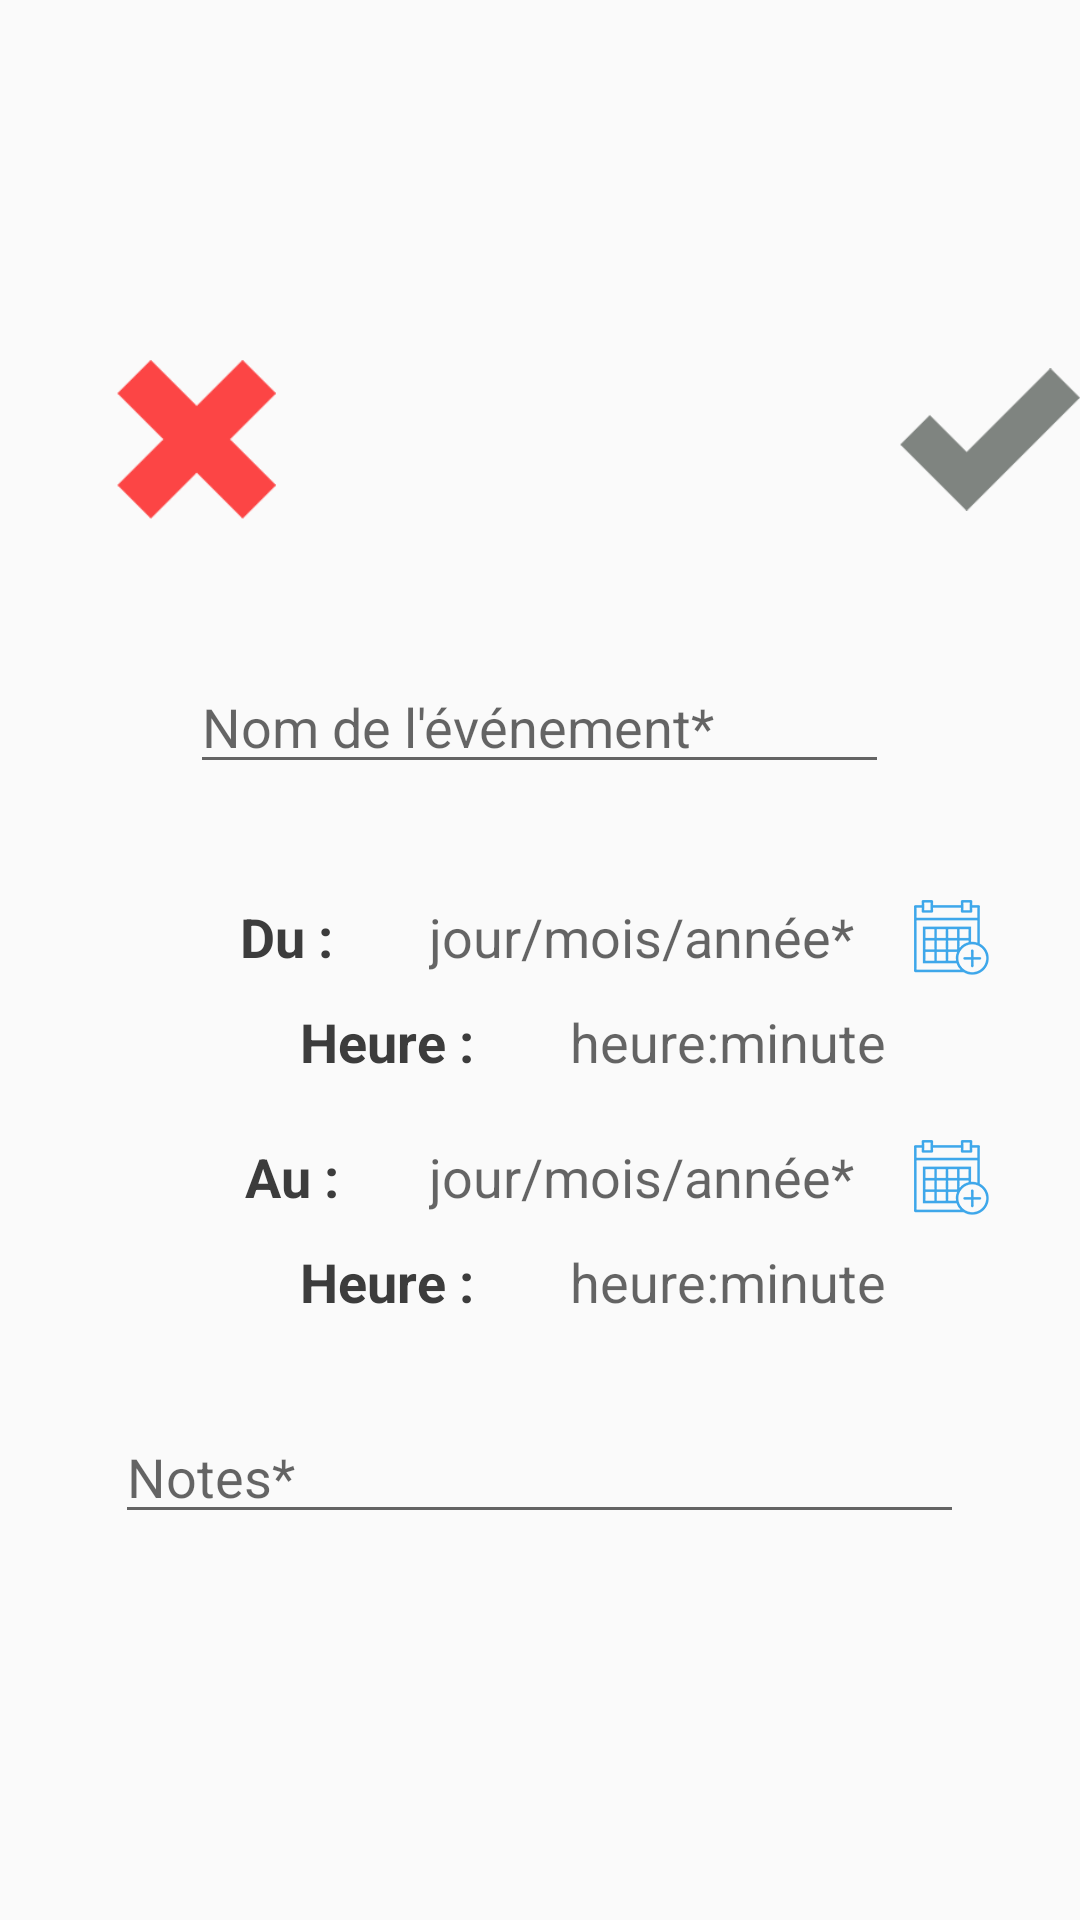

Named icons in this screenshot (1080x1920) and their centers, (x=x, y=y):
cross: (x=196, y=439)
encoche grise: (x=990, y=439)
